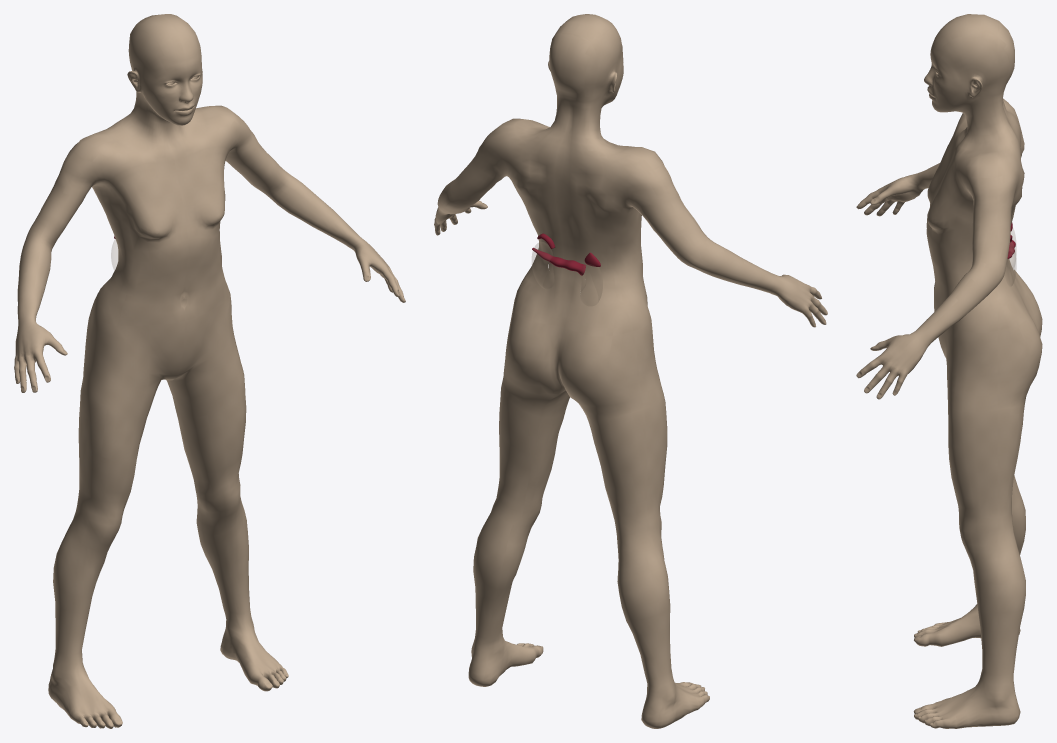
The model's file is endocrine-glands-set.glb.
3 views of the same model, side by side, from view 1: azimuth 30°, elevation 25°; view 2: azimuth 150°, elevation 25°; view 3: azimuth 270°, elevation 25° (orthographic).
Visible parts, largest first — view 1: MakeHuman CC0 systems orientation envelope; view 2: MakeHuman CC0 systems orientation envelope; view 3: MakeHuman CC0 systems orientation envelope.
Boxes of the visible parts, box(x1,y1,x2,y2) form: MakeHuman CC0 systems orientation envelope: box(14, 14, 405, 728); MakeHuman CC0 systems orientation envelope: box(434, 14, 827, 728); MakeHuman CC0 systems orientation envelope: box(856, 14, 1042, 728).
Bounding box in the file's own units: 1.04 × 1.75 × 0.4444.
5 materials, 5 textured.
